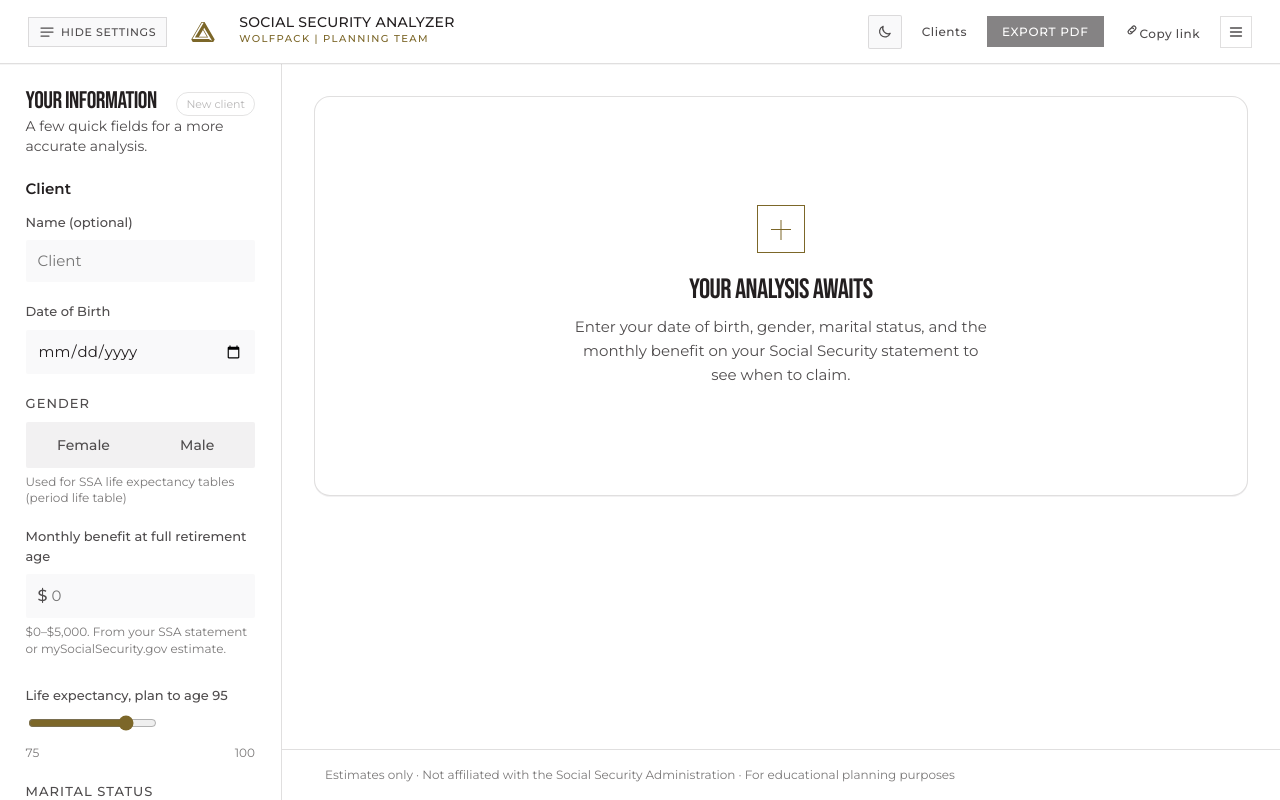
Test: Analyzer › the About panel › opens one drawer at a time, whichever was open first
This screenshot has width=1280, height=800.
Click the button named "menu" at (1236, 32), box top-left (1220, 16), bottom-right (1252, 48)
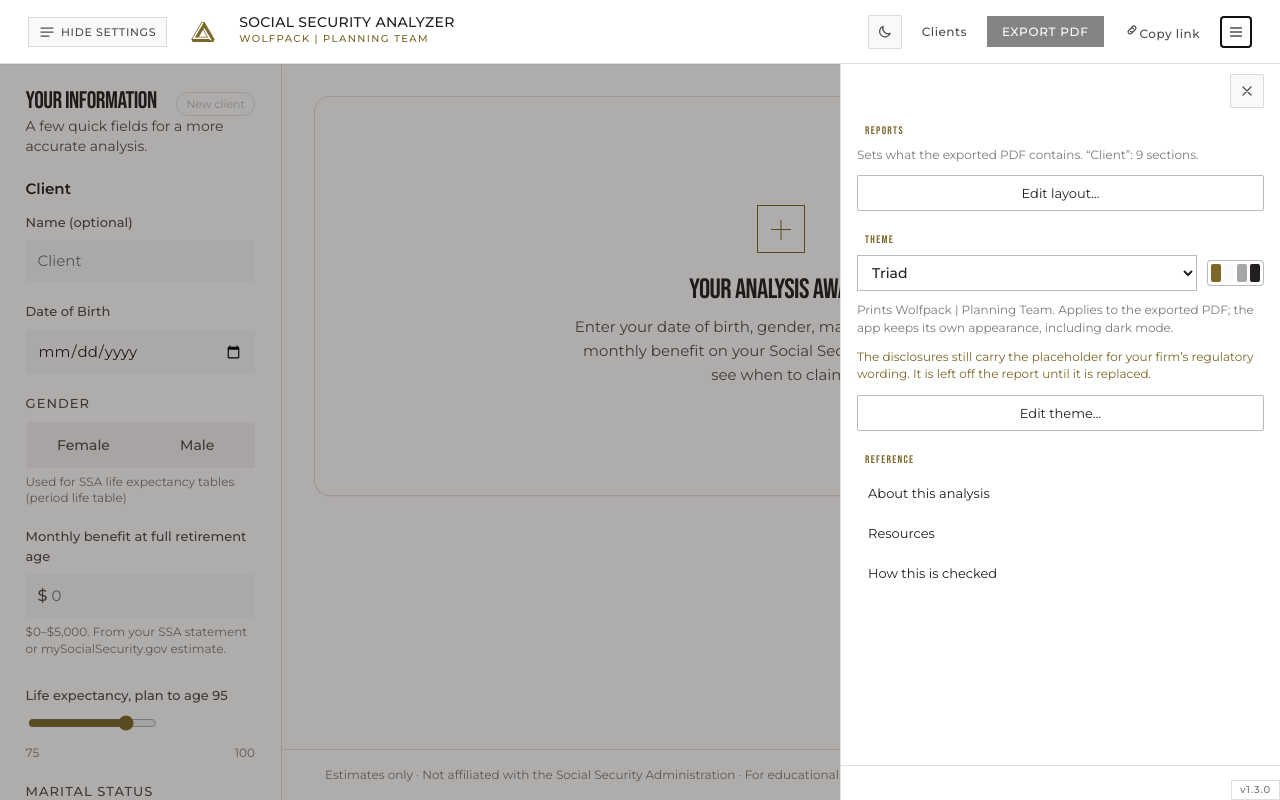
Click the button "Resources" at (901, 533), box top-left (857, 515), bottom-right (1264, 551)
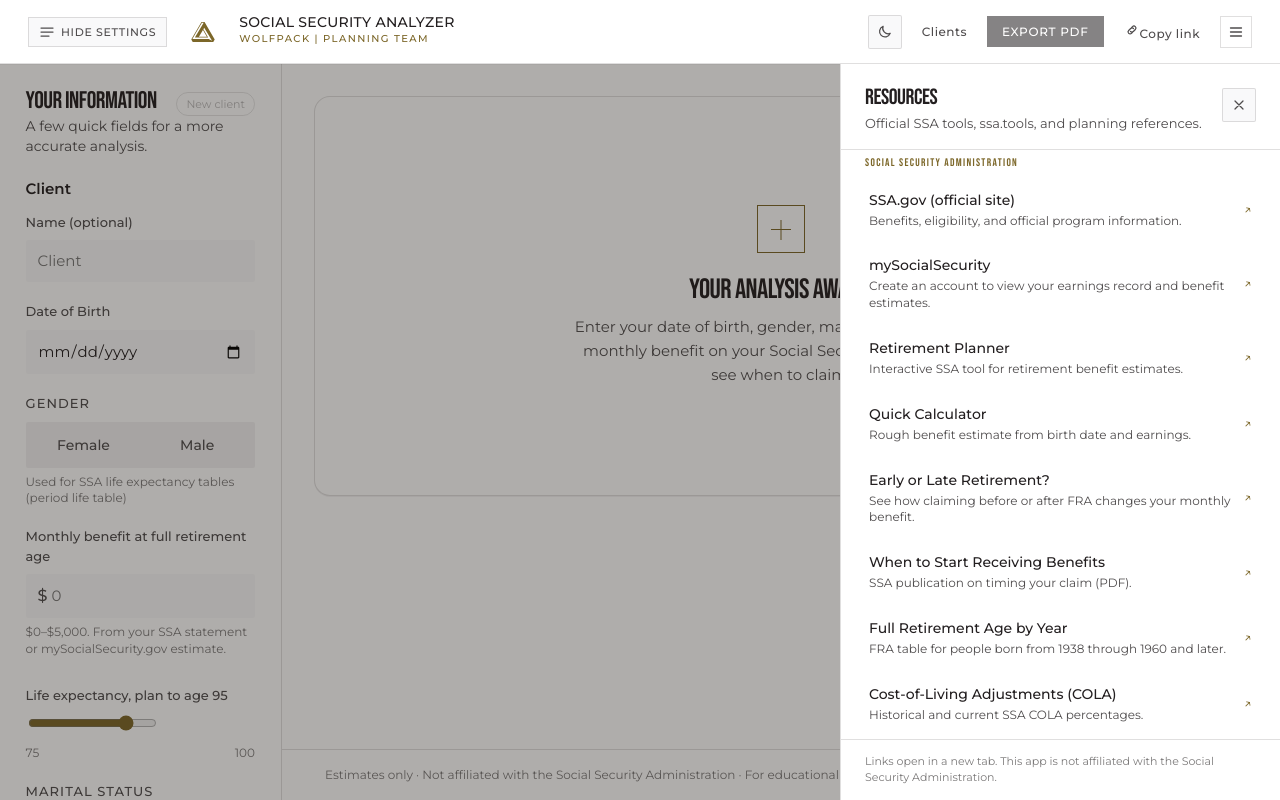
Check: the heading "Resources" is shown, box top-left (865, 84), bottom-right (937, 111)
Click the button named "menu" at (1236, 32), box top-left (1220, 16), bottom-right (1252, 48)
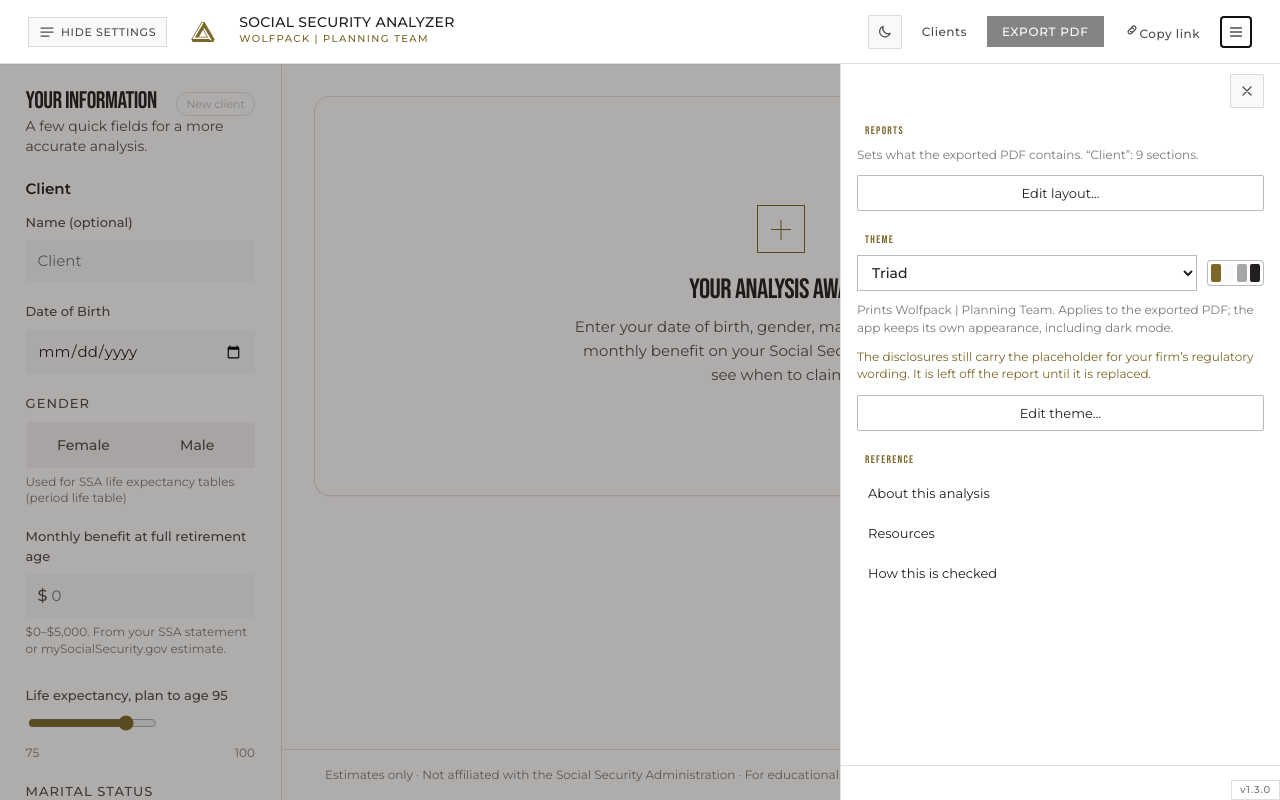
Click the button "About this analysis" at (929, 493), box top-left (857, 475), bottom-right (1264, 511)
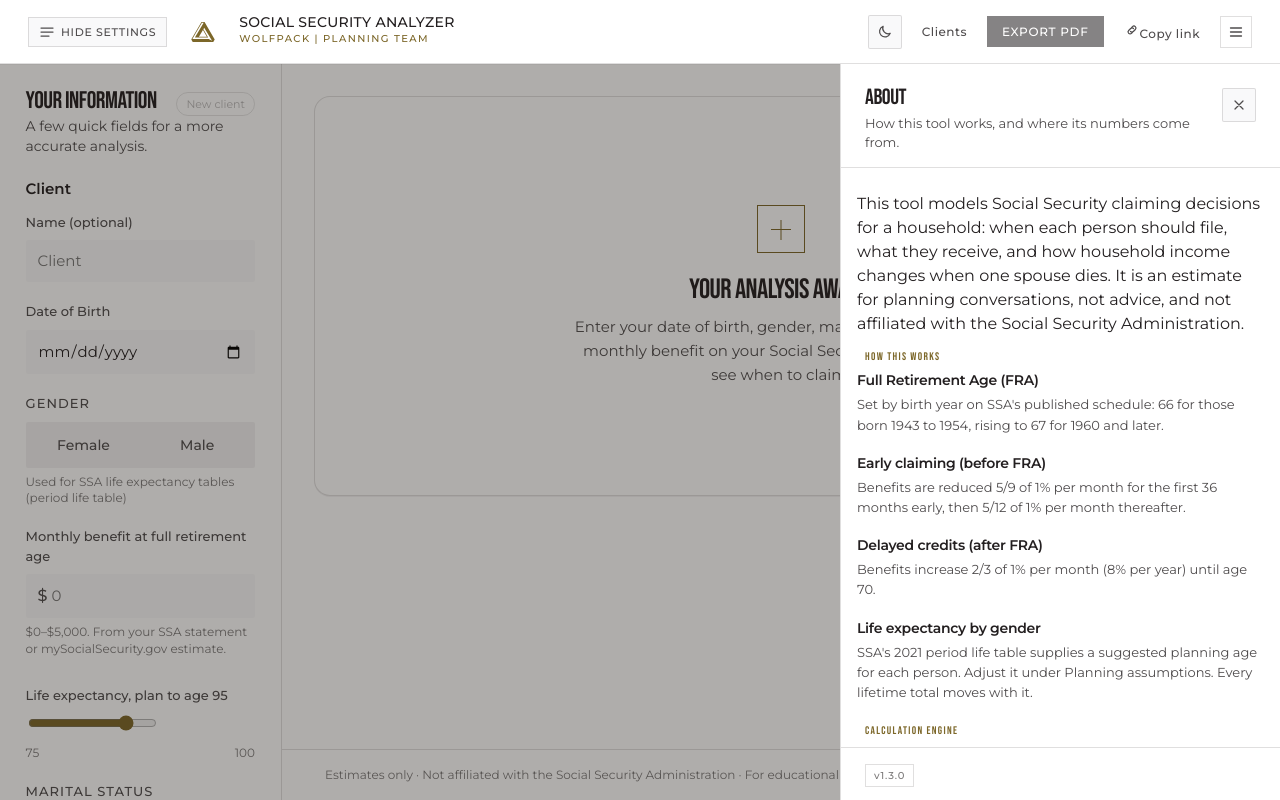
Check: the heading "About" is shown, box top-left (865, 84), bottom-right (906, 111)
Check: the button "Resources" is gone
Click the button named "menu" at (1236, 32), box top-left (1220, 16), bottom-right (1252, 48)
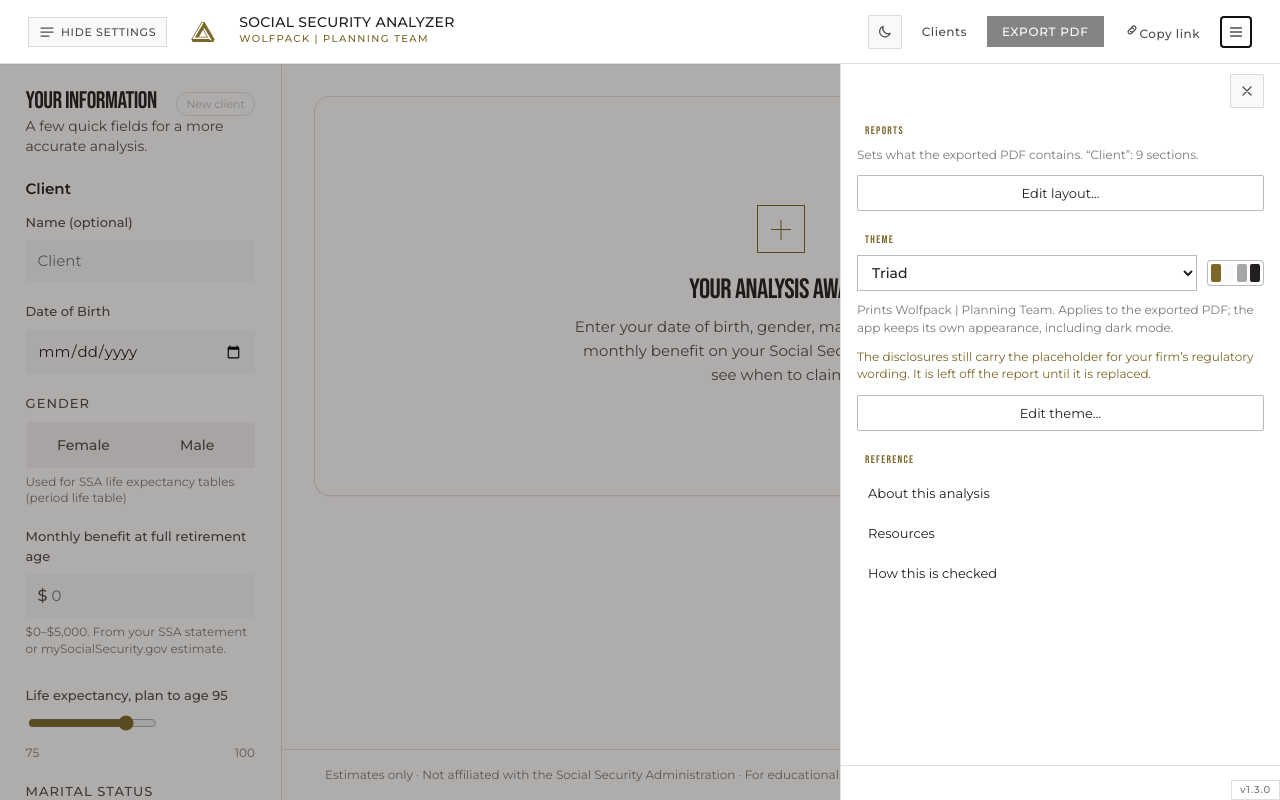
Click the button "Resources" at (901, 533), box top-left (857, 515), bottom-right (1264, 551)
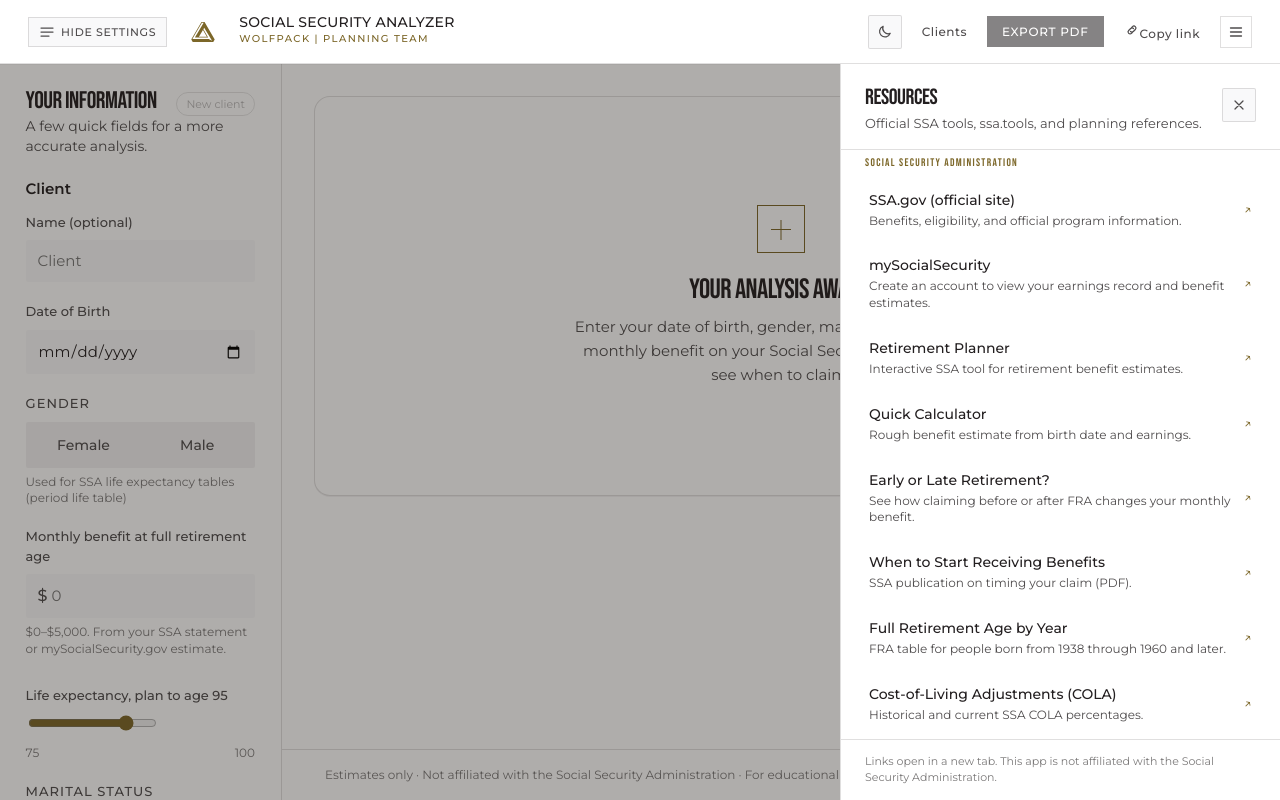
Check: the heading "Resources" is shown, box top-left (865, 84), bottom-right (937, 111)
Check: the button "About" is gone
